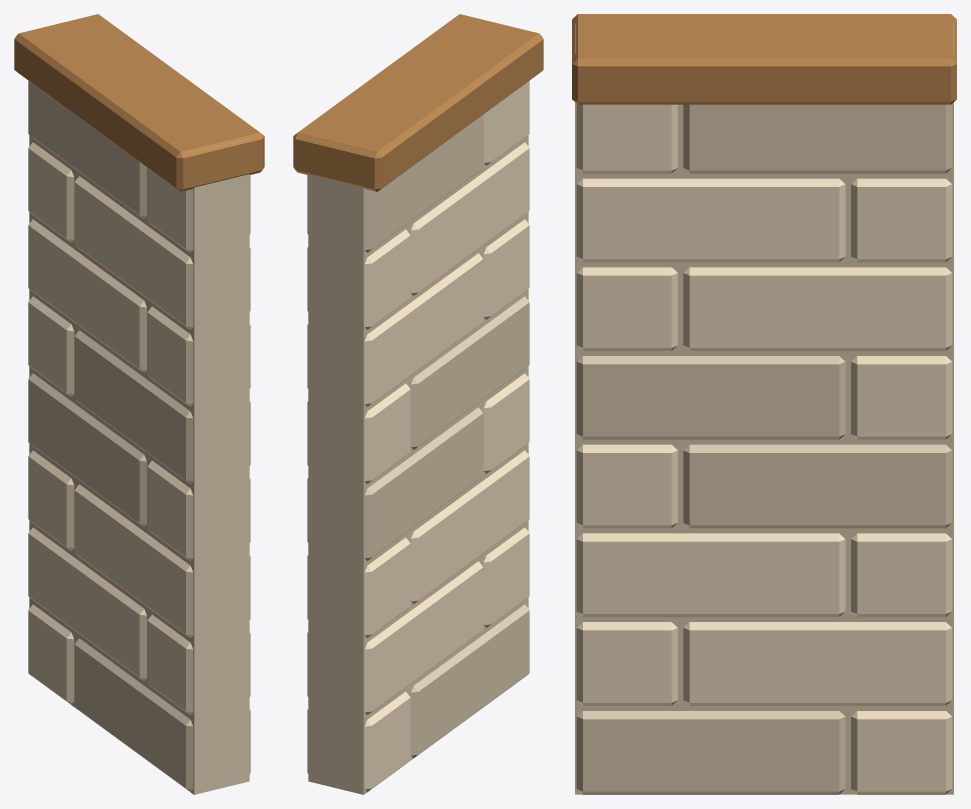
Rendered from mod_wall_curved_r2.42_n16_plain.glb.
3 views of the same model, side by side, from view 1: azimuth 30°, elevation 25°; view 2: azimuth 150°, elevation 25°; view 3: azimuth 270°, elevation 25° (orthographic). The views are drawn at different scales.
Parts seen in each view (by area): view 1: mod_wall_curved_r2.42_n16_plain; view 2: mod_wall_curved_r2.42_n16_plain; view 3: mod_wall_curved_r2.42_n16_plain.
Boxes of the visible parts, x1,y1,x2,y2 form: mod_wall_curved_r2.42_n16_plain: (14, 14, 264, 794); mod_wall_curved_r2.42_n16_plain: (293, 14, 543, 794); mod_wall_curved_r2.42_n16_plain: (572, 14, 956, 794).
Bounding box in the file's own units: 0.3 × 2.09 × 0.9827.
